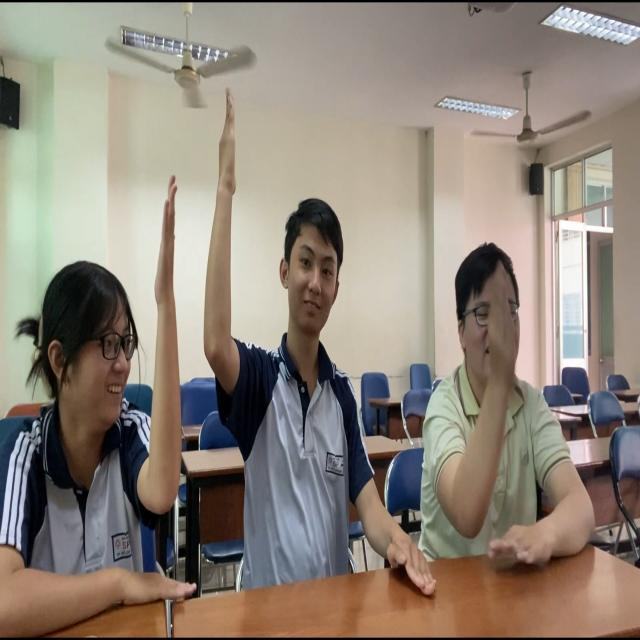raise_hand: (201, 81, 400, 590), (1, 162, 189, 640), (427, 230, 611, 585)
